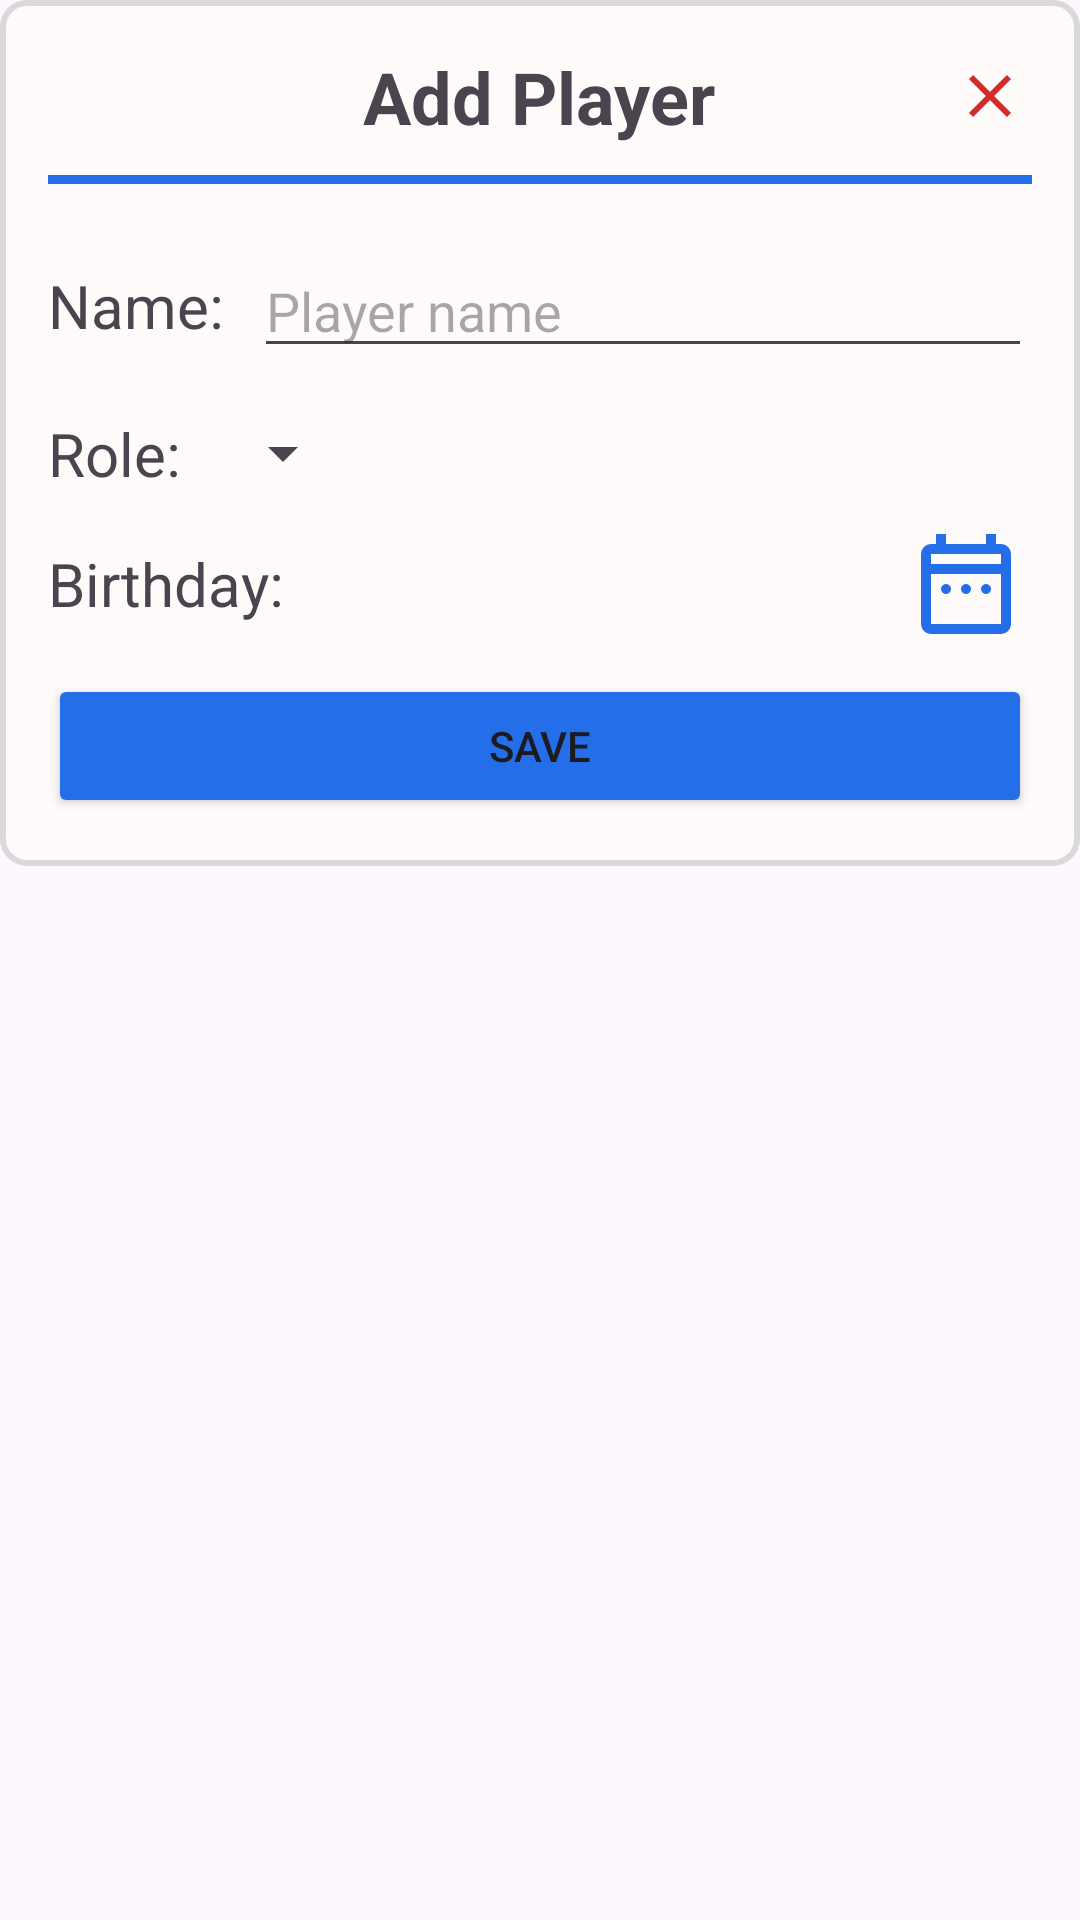

Screen size 1080w x 1920h. Icon name, then its center in pixels as [x,y]:
close: [990,96]
date range: [966,584]
